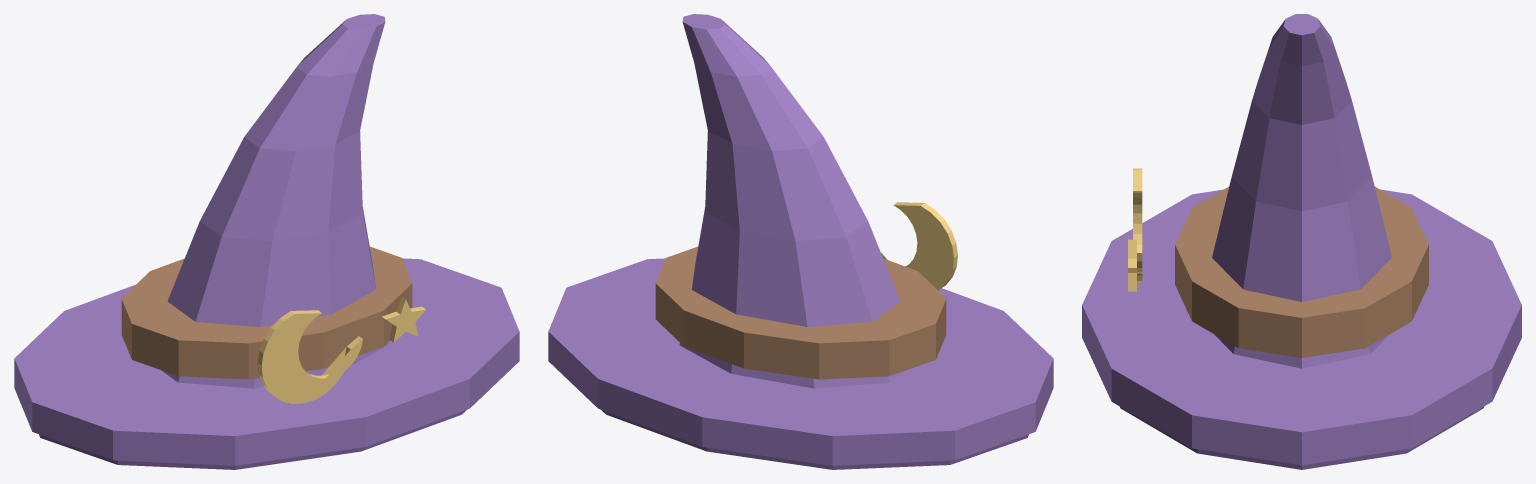
The picture shows the model from 3 angles, left to right: view 1: azimuth 30°, elevation 25°; view 2: azimuth 150°, elevation 25°; view 3: azimuth 270°, elevation 25°; orthographic projection. The views are drawn at different scales.
Visible parts, largest first — view 1: wide floppy low-poly brim, single-piece bent wizard hat cone, simple warm leather hat band, soft gold crescent charm on hat band, dark lower brim shadow, small simple gold star on hat band; view 2: wide floppy low-poly brim, single-piece bent wizard hat cone, simple warm leather hat band, soft gold crescent charm on hat band, dark lower brim shadow; view 3: wide floppy low-poly brim, single-piece bent wizard hat cone, simple warm leather hat band, dark lower brim shadow, soft gold crescent charm on hat band, small simple gold star on hat band.
Boxes of the visible parts, bbox=[...] form: wide floppy low-poly brim: bbox=[14, 258, 519, 465]; single-piece bent wizard hat cone: bbox=[162, 14, 388, 388]; simple warm leather hat band: bbox=[121, 246, 412, 379]; soft gold crescent charm on hat band: bbox=[257, 310, 362, 403]; dark lower brim shadow: bbox=[39, 410, 466, 469]; small simple gold star on hat band: bbox=[382, 296, 425, 342]; wide floppy low-poly brim: bbox=[548, 258, 1053, 465]; single-piece bent wizard hat cone: bbox=[679, 14, 905, 388]; simple warm leather hat band: bbox=[655, 246, 946, 379]; soft gold crescent charm on hat band: bbox=[881, 202, 957, 290]; dark lower brim shadow: bbox=[601, 410, 1028, 469]; wide floppy low-poly brim: bbox=[1082, 189, 1521, 465]; single-piece bent wizard hat cone: bbox=[1212, 14, 1391, 368]; simple warm leather hat band: bbox=[1175, 186, 1428, 357]; dark lower brim shadow: bbox=[1119, 406, 1484, 469]; soft gold crescent charm on hat band: bbox=[1133, 168, 1142, 283]; small simple gold star on hat band: bbox=[1128, 239, 1136, 291].
Bounding box in the file's own units: 2.31 × 1.59 × 1.69.
